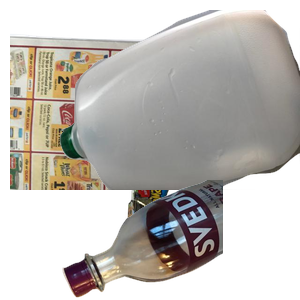glass: (60, 180, 300, 300)
paper: (10, 31, 214, 211)
plastic: (60, 10, 300, 190)
trash: (120, 131, 290, 300)
